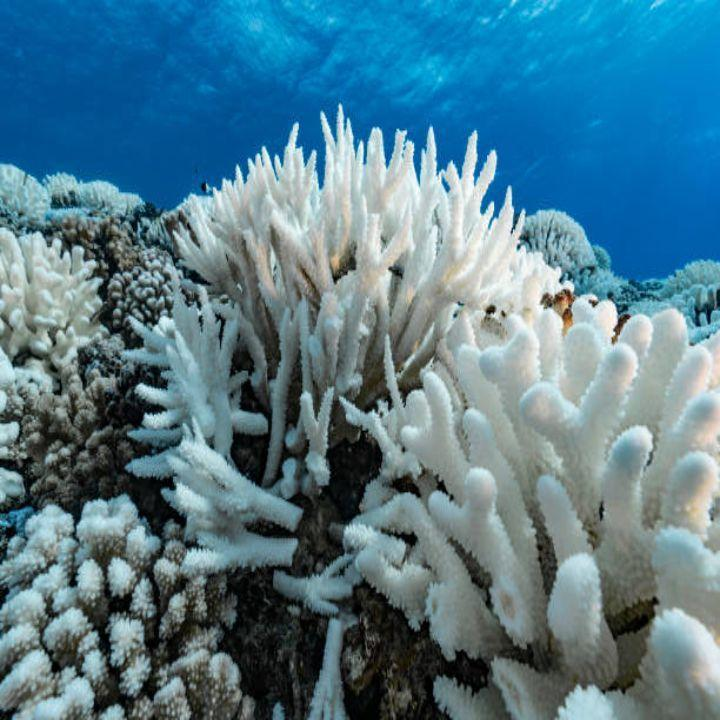Bleached disease: (0, 117, 720, 720), (0, 225, 104, 443), (0, 164, 148, 244)
